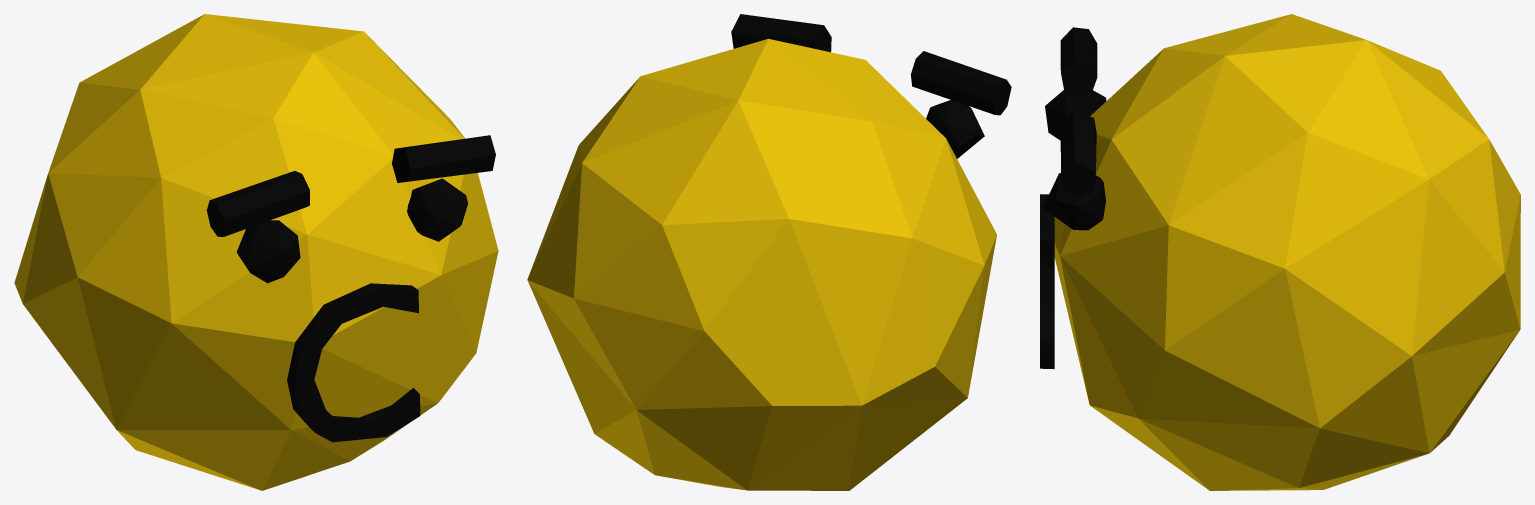
The model's file is VitaminC.fbx.
3 views of the same model, side by side, from view 1: azimuth 30°, elevation 25°; view 2: azimuth 150°, elevation 25°; view 3: azimuth 270°, elevation 25° (orthographic). The views are drawn at different scales.
Visible parts, largest first — view 1: Sphere, Text, Cylinder, Sphere.001; view 2: Sphere, Cylinder, Sphere.001; view 3: Sphere, Cylinder, Sphere.001, Text.
Boxes of the visible parts, box(x1,y1,x2,y2) form: Sphere: box(14, 14, 498, 490); Text: box(287, 283, 420, 442); Cylinder: box(207, 135, 495, 236); Sphere.001: box(237, 178, 467, 283); Sphere: box(527, 38, 996, 490); Cylinder: box(731, 14, 1011, 115); Sphere.001: box(926, 100, 984, 158); Sphere: box(1054, 14, 1520, 490); Cylinder: box(1060, 27, 1097, 197); Sphere.001: box(1043, 90, 1106, 230); Text: box(1040, 194, 1054, 369).
Bounding box in the file's own units: 0.4384 × 0.4454 × 0.4432.
